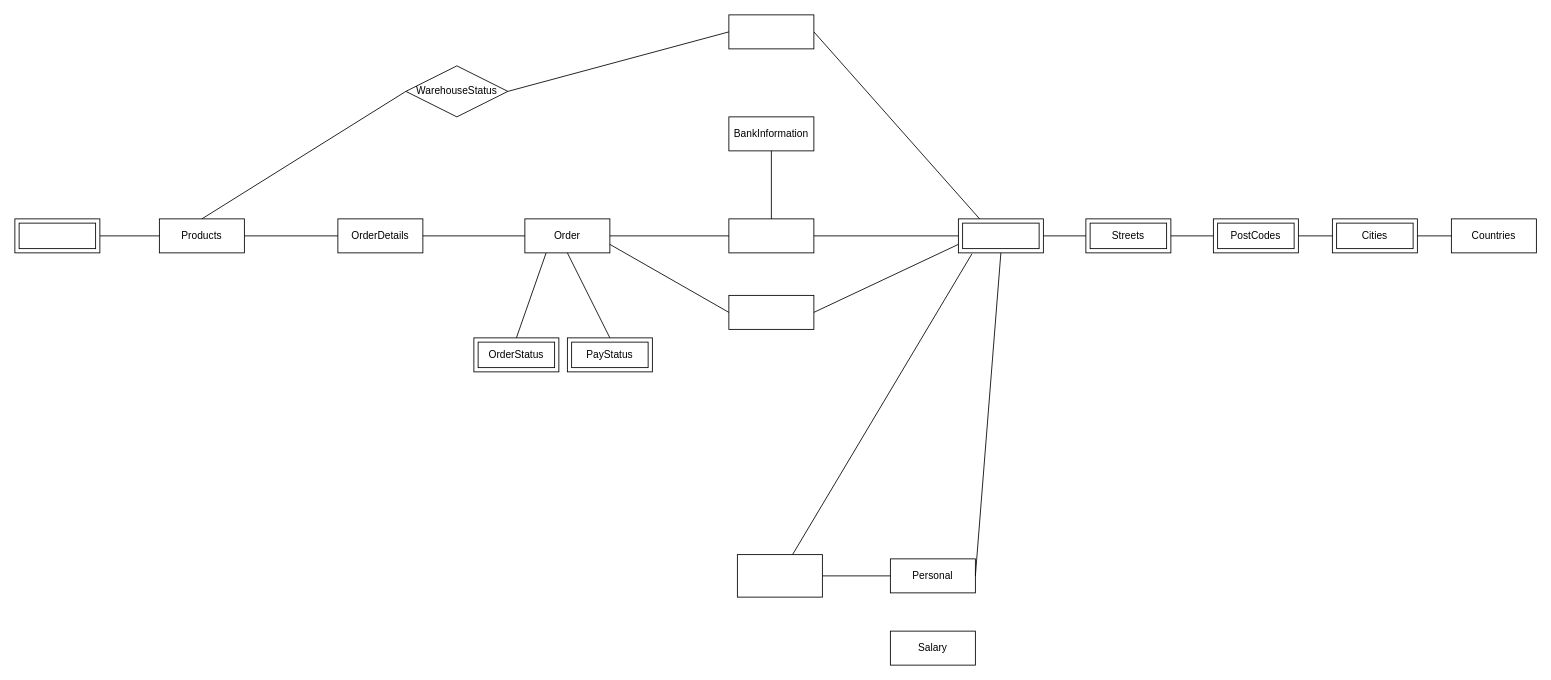
The diagram is 1551 pixels wide and 680 high, and some of its shapes have lost their labels. Here are the shapes that lost their labels. From the top down, the box of each, then its label:
(728, 14, 814, 49): Warehouses
(14, 218, 100, 253): ProductTypes
(728, 218, 814, 253): Customers
(958, 218, 1043, 253): Adresses
(728, 295, 814, 329): Shippers
(737, 554, 822, 597): Departments
